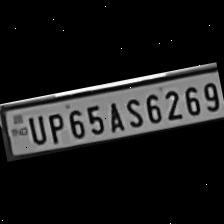2: (158, 86, 183, 122)
5: (82, 100, 106, 136)
6: (62, 104, 86, 140), (140, 90, 164, 126), (179, 82, 203, 118)
9: (198, 77, 223, 113)
A: (102, 97, 126, 134)
P: (43, 108, 68, 144)
S: (121, 94, 146, 130)
U: (24, 111, 48, 146)
